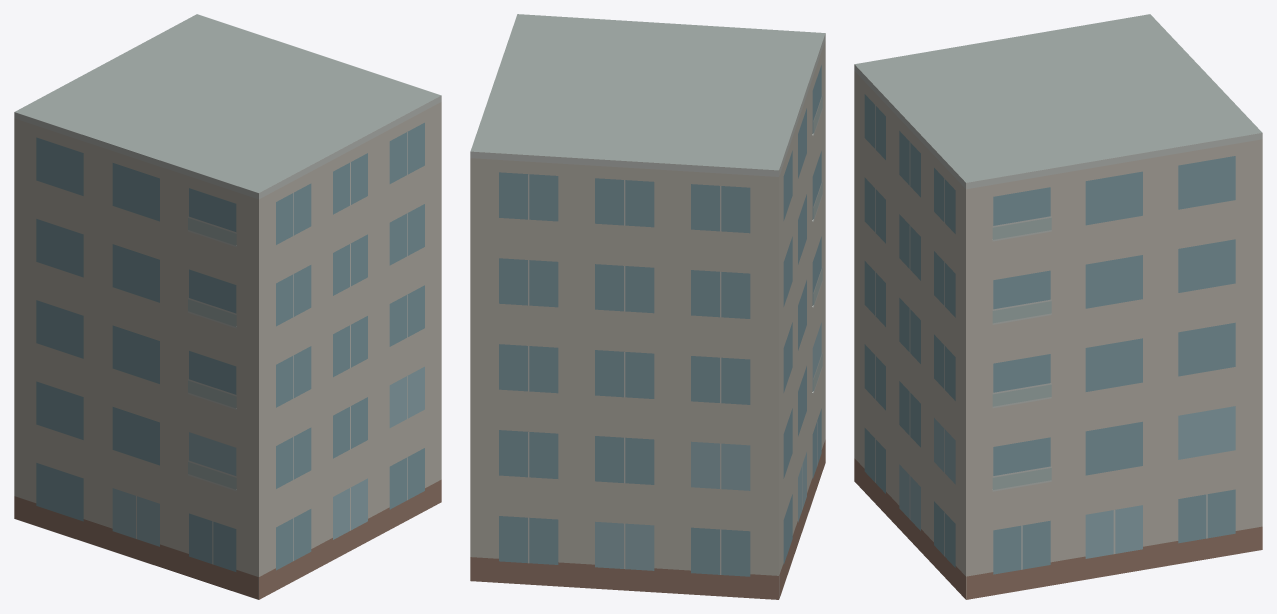
Rendered from survey-upis-32991225.glb.
The picture shows the model from 3 angles, left to right: view 1: azimuth 30°, elevation 25°; view 2: azimuth 150°, elevation 25°; view 3: azimuth 270°, elevation 25°; orthographic projection. The views are drawn at different scales.
Parts seen in each view (by area): view 1: survey-upis-32991225.tmp; view 2: survey-upis-32991225.tmp; view 3: survey-upis-32991225.tmp.
Boxes of the visible parts, left/top/right/bottom form: survey-upis-32991225.tmp: left=14, top=14, right=441, bottom=599; survey-upis-32991225.tmp: left=470, top=14, right=825, bottom=599; survey-upis-32991225.tmp: left=854, top=14, right=1262, bottom=599.
Bounding box in the file's own units: 13.82 × 15.9 × 14.12.
